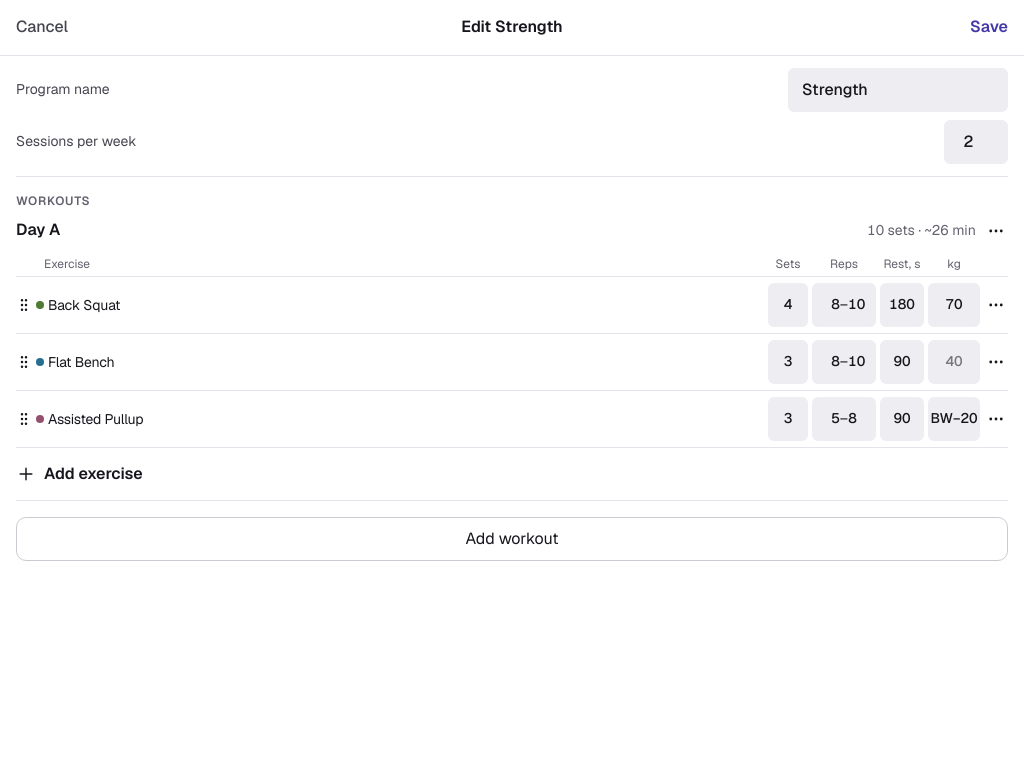
Test case: S7b a Workout's head shows its live sets and minutes, following an edit to Sets
The width and height of the screenshot is (1024, 768).
Expected: the text "10 sets · ~26 min" is shown, [867,221,976,241]
Replace the text in the 1st number field named "Sets" with "5" at (788, 305), box [770,285,806,325]
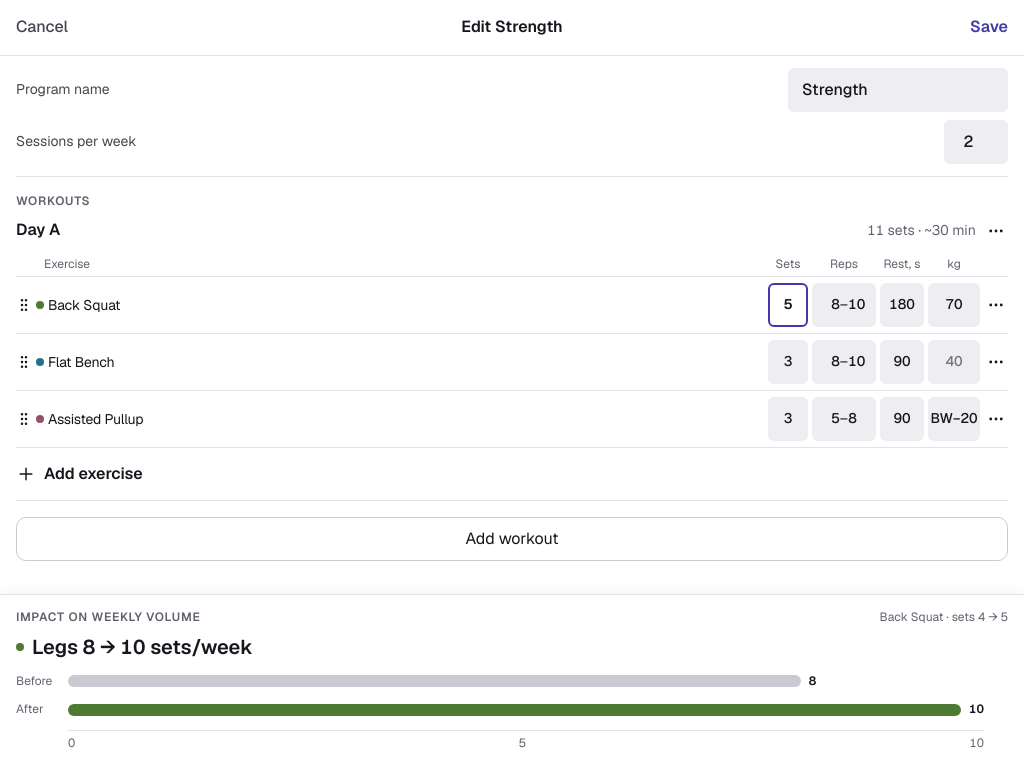
Expected: the text "11 sets · ~30 min" is shown, [867,221,976,241]
